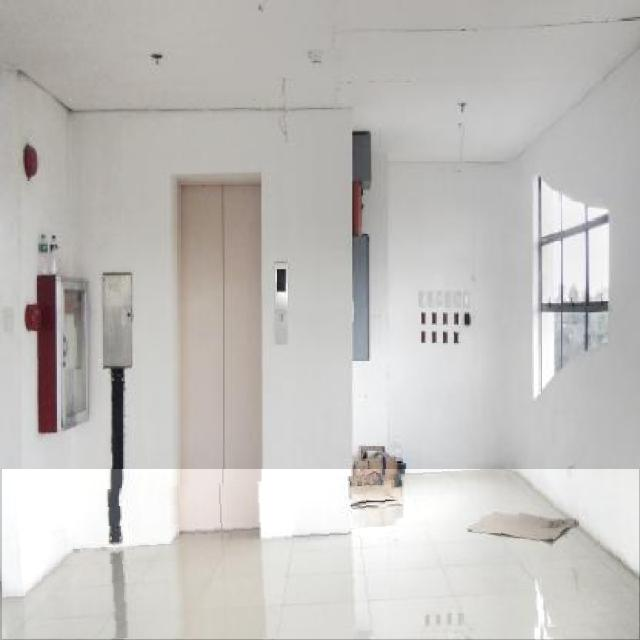floor: (2, 470, 639, 639)
